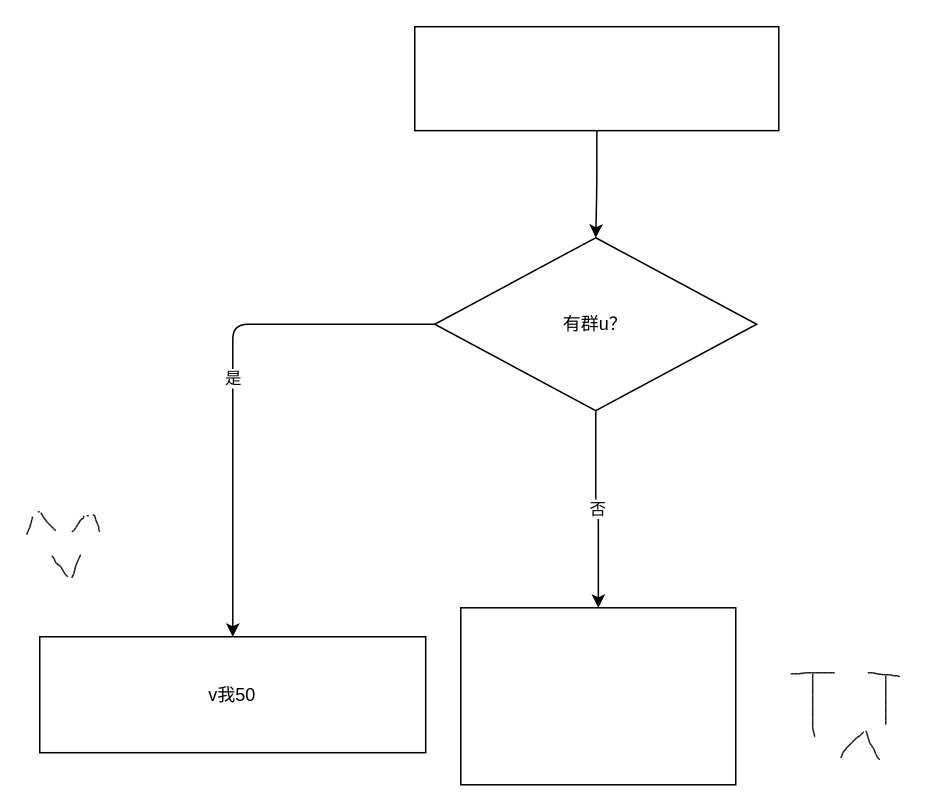
Image size: 930x812. Some labels were removed from this diagram. Each missing label, with the centre of its shape:
"kfc疯狂星期四" belongs at [596,78].
"哭哭" belongs at [597,695].
